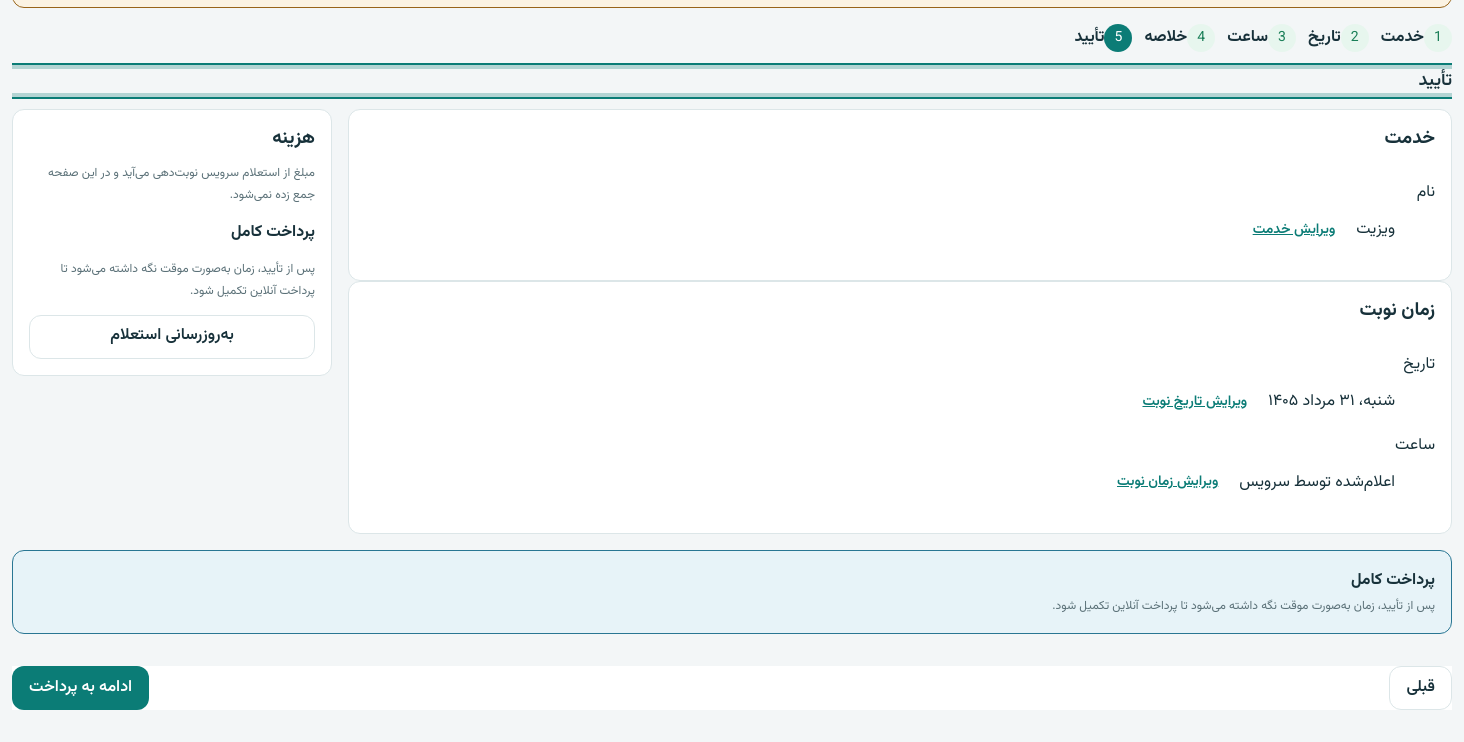
Test: BookingWizard hold creation › returns to summary review when hold creation reports a quote change
(page scrolled)
Check: the heading "تأیید" is shown, box [12,69,1452,93]
Click the button "ادامه به پرداخت" at (81, 688), box [12,666,149,710]
(page scrolled)
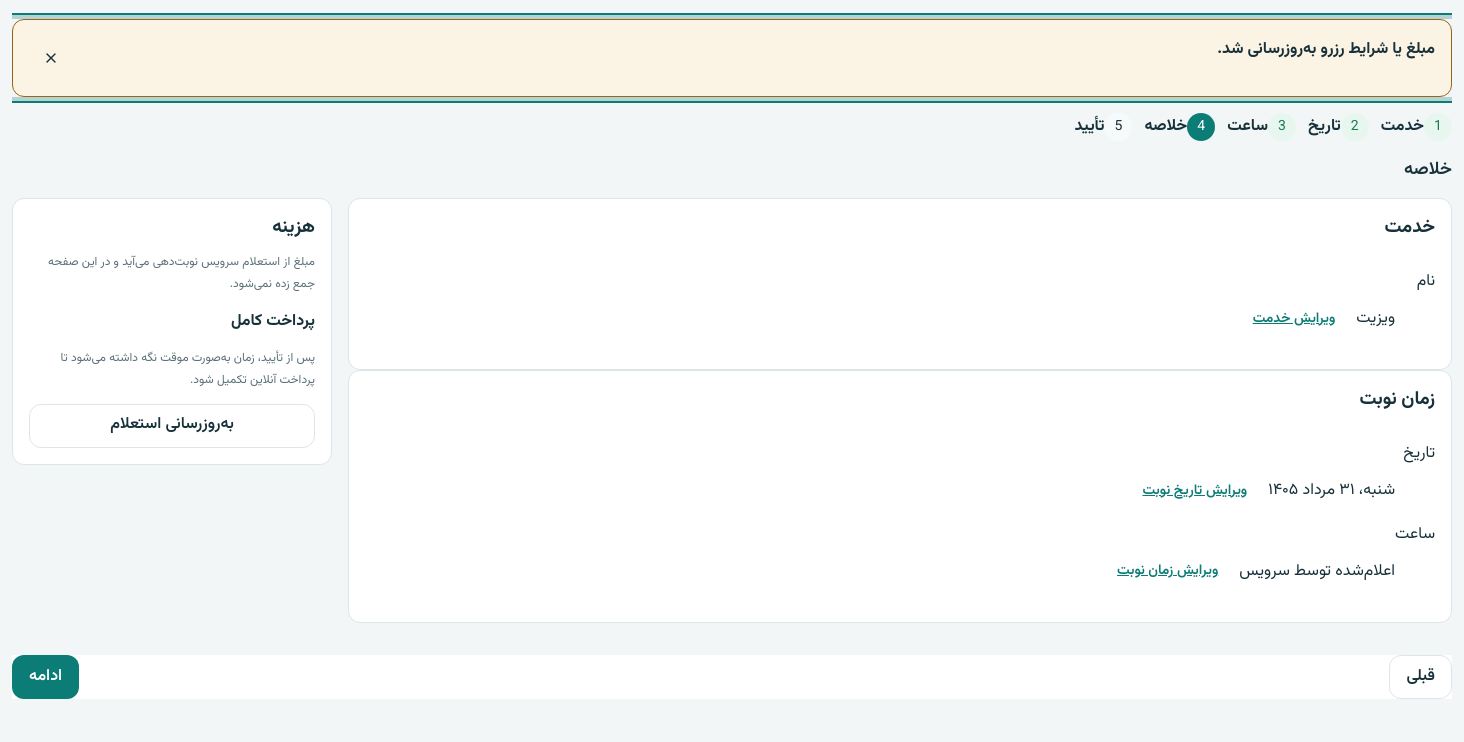
Check: the text "مبلغ یا شرایط رزرو به‌روزرسانی شد." is shown, box [1217,37,1435,62]
